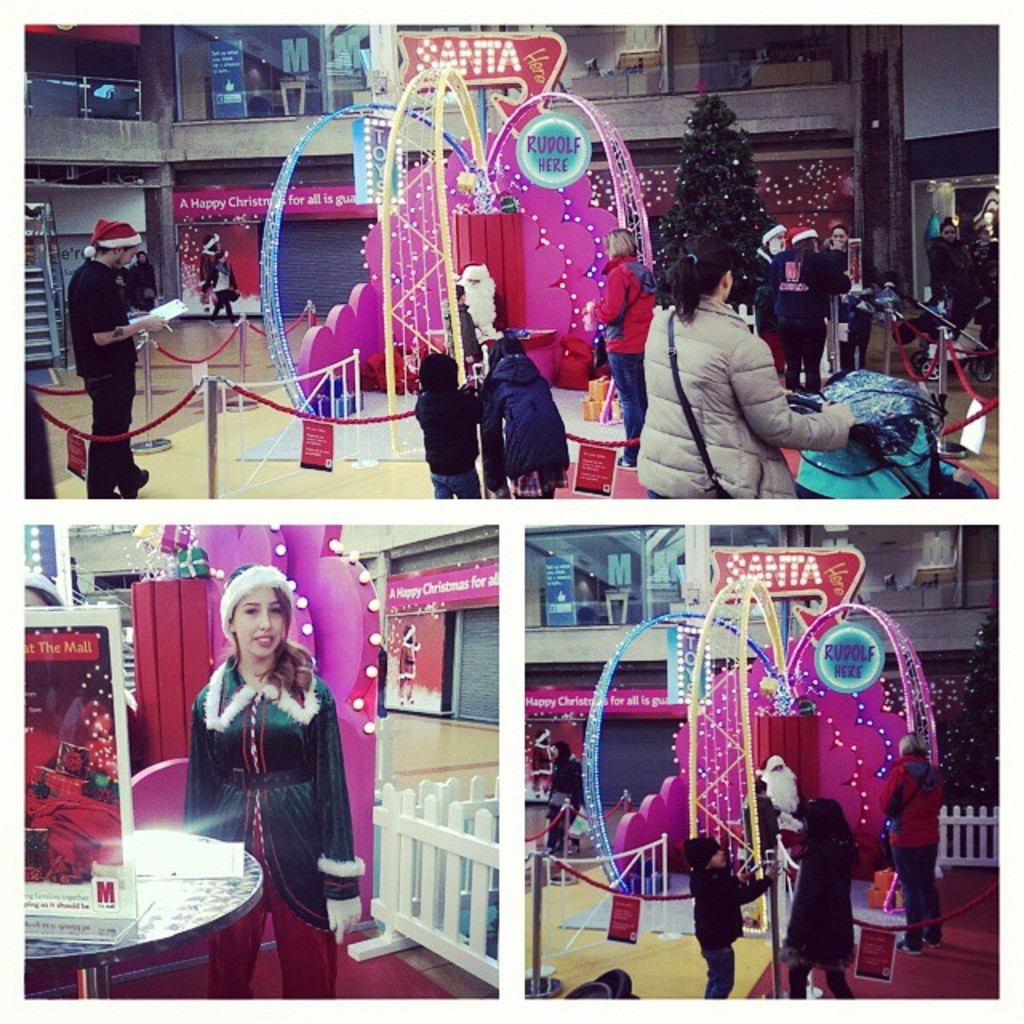Person: (67, 89, 998, 999)
